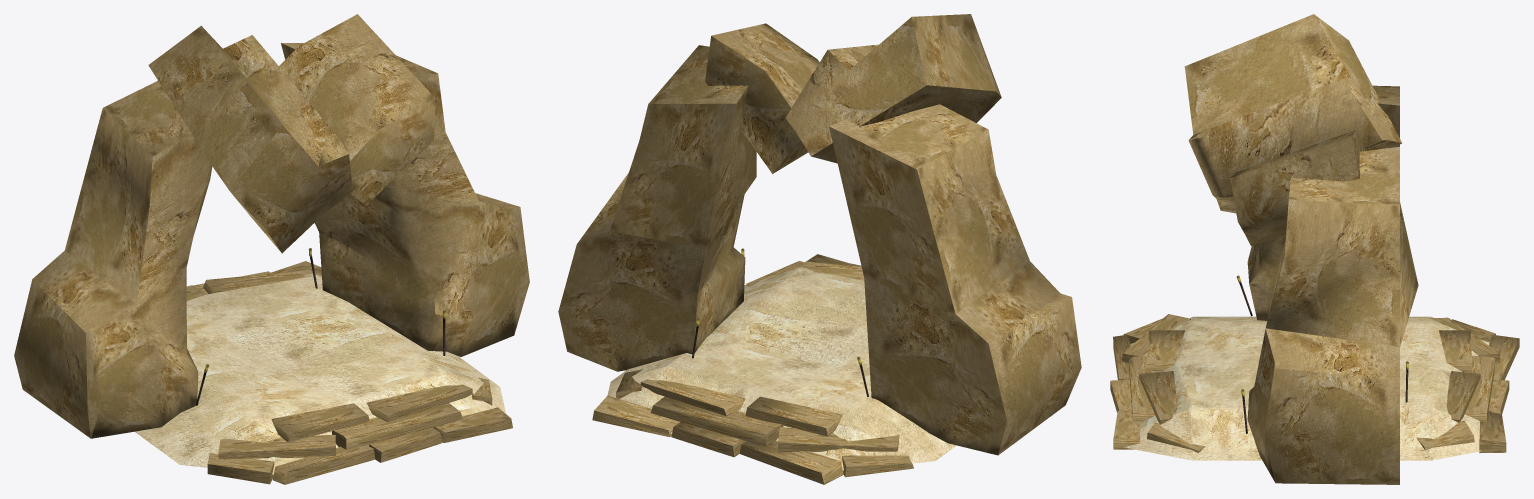
The model's file is tunnelcap_cave_interior.fbx.
The picture shows the model from 3 angles, left to right: view 1: azimuth 30°, elevation 25°; view 2: azimuth 150°, elevation 25°; view 3: azimuth 270°, elevation 25°; orthographic projection. The views are drawn at different scales.
Visible parts, largest first — view 1: columnL, floor2, columnR, top_big1, topSmall, pCube4.001, pCube7.001, pCube9.001, pCube8.001, pCube3.001, pCube1.001, pCube6.001 (+2 smaller); view 2: columnL, columnR, floor2, top_big1, topSmall, pCube4, pCube3, pCube9, pCube7, pCube1, pCube8, pCube2 (+2 smaller); view 3: columnR, top_big1, floor2, topSmall, columnL, pCube8.001, pCube9.001, pCube4, pCube8, pCube4.001, pCube9, pCube1 (+9 smaller).
Part boxes in pixels (<box>): columnL: <box>14,81,212,438</box>; floor2: <box>135,273,505,474</box>; columnR: <box>281,43,529,356</box>; top_big1: <box>148,25,352,253</box>; topSmall: <box>279,14,435,205</box>; pCube4.001: <box>332,403,462,449</box>; pCube7.001: <box>218,435,335,459</box>; pCube9.001: <box>271,403,369,442</box>; pCube8.001: <box>367,384,472,422</box>; pCube3.001: <box>273,445,375,484</box>; pCube1.001: <box>433,407,512,442</box>; pCube6.001: <box>207,453,274,484</box>; columnL: <box>829,104,1081,455</box>; columnR: <box>558,45,756,371</box>; floor2: <box>607,267,956,470</box>; top_big1: <box>785,14,1001,163</box>; topSmall: <box>705,23,819,173</box>; pCube4: <box>650,396,783,446</box>; pCube3: <box>739,441,843,484</box>; pCube9: <box>745,396,842,436</box>; pCube7: <box>778,427,899,452</box>; pCube1: <box>592,395,679,437</box>; pCube8: <box>640,379,745,416</box>; pCube2: <box>671,422,745,457</box>; columnR: <box>1247,146,1418,484</box>; top_big1: <box>1184,14,1401,213</box>; floor2: <box>1124,316,1489,460</box>; topSmall: <box>1230,130,1365,245</box>; columnL: <box>1247,85,1399,320</box>; pCube8.001: <box>1139,371,1177,424</box>; pCube9.001: <box>1147,330,1184,371</box>; pCube4: <box>1465,355,1494,421</box>; pCube8: <box>1446,371,1480,422</box>; pCube4.001: <box>1129,356,1155,421</box>; pCube9: <box>1439,330,1471,371</box>; pCube1: <box>1479,411,1506,453</box>.
Size of the model in its own units: 6078 by 4933 by 5279.
Materials: 3 (3 with a texture image).
